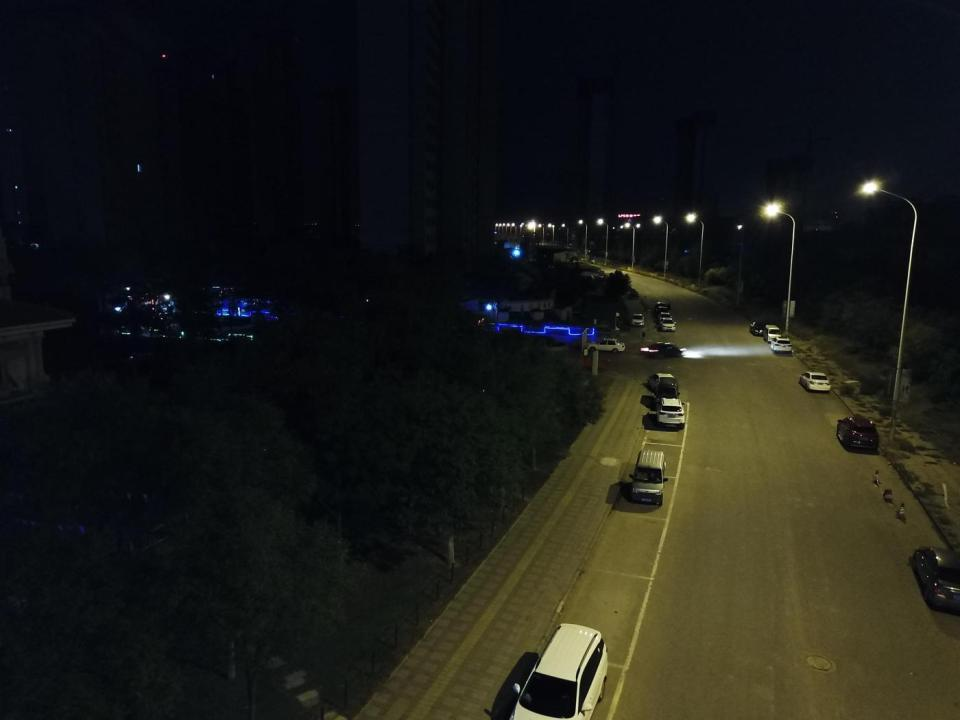car: (509, 622, 608, 720), (911, 545, 960, 611), (837, 416, 880, 451), (656, 398, 685, 429), (640, 342, 686, 358), (799, 371, 831, 392), (647, 373, 676, 392), (654, 384, 680, 405), (587, 338, 625, 352), (770, 337, 792, 353), (749, 322, 768, 336), (660, 318, 676, 331), (631, 313, 644, 326), (658, 312, 672, 322), (656, 306, 668, 315), (655, 302, 667, 310)
van: (628, 450, 668, 506), (763, 324, 781, 343)
